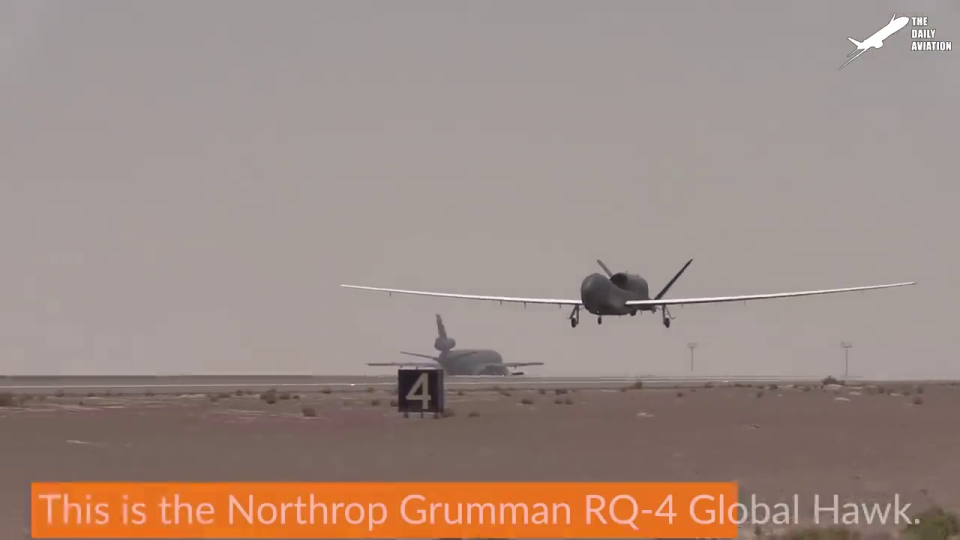military drone: (341, 258, 917, 328)
